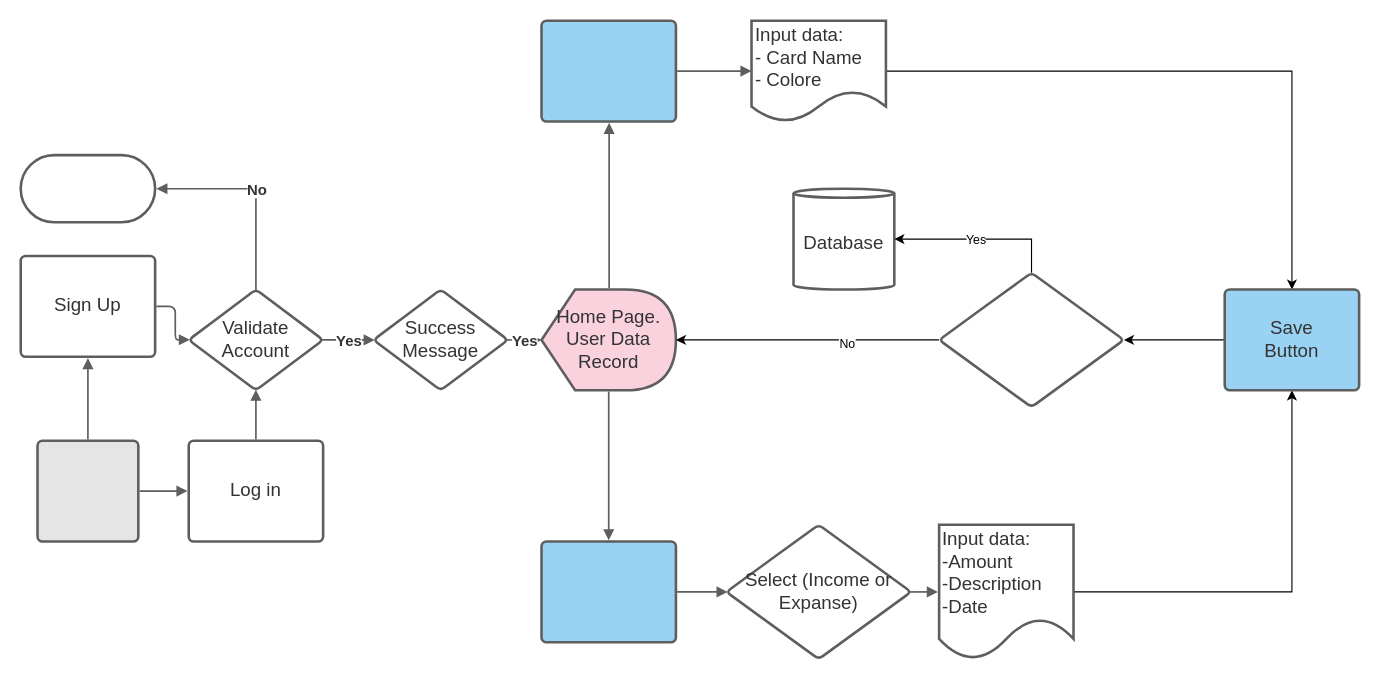
The diagram is 1380 pixels wide and 680 high, and some of its shapes have lost their labels. Each missing label, with the box of its shape:
Add Account Button: (540, 19, 677, 122)
Failed Message: (19, 153, 156, 223)
If Save: (937, 271, 1125, 408)
Record Button: (540, 540, 677, 643)
User: (36, 439, 139, 542)
